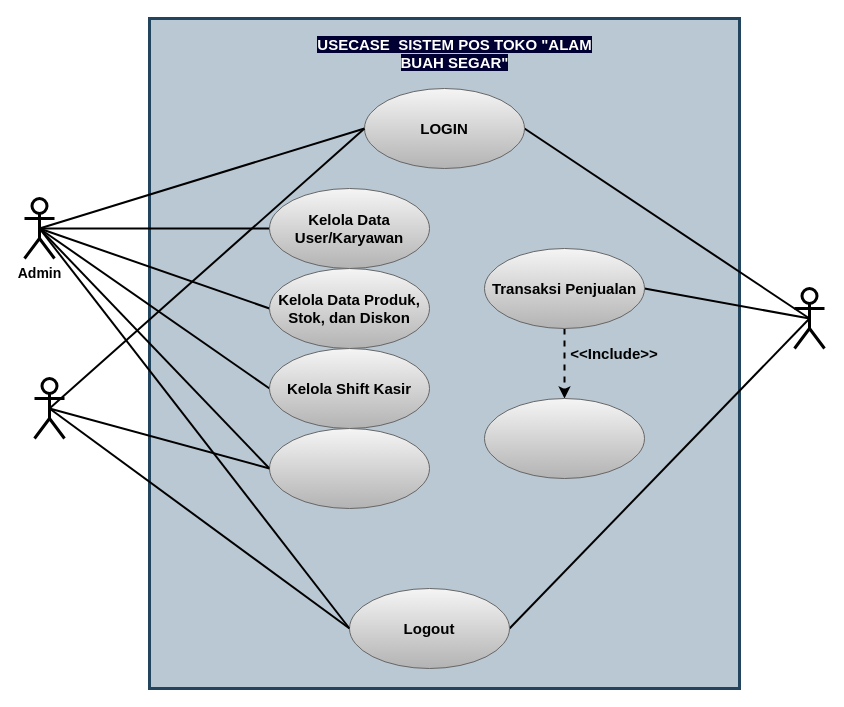
The diagram is 844 pixels wide and 707 high, and some of its shapes have lost their labels. The box of each missing label's shape, as (x1, y1, x2, y2) in pixels:
Cetak Struk Penjualan: (484, 398, 644, 478)
Kasir: (792, 286, 826, 350)
Kelola Laporan Penjualan: (268, 428, 430, 508)
Manager: (32, 376, 66, 440)
